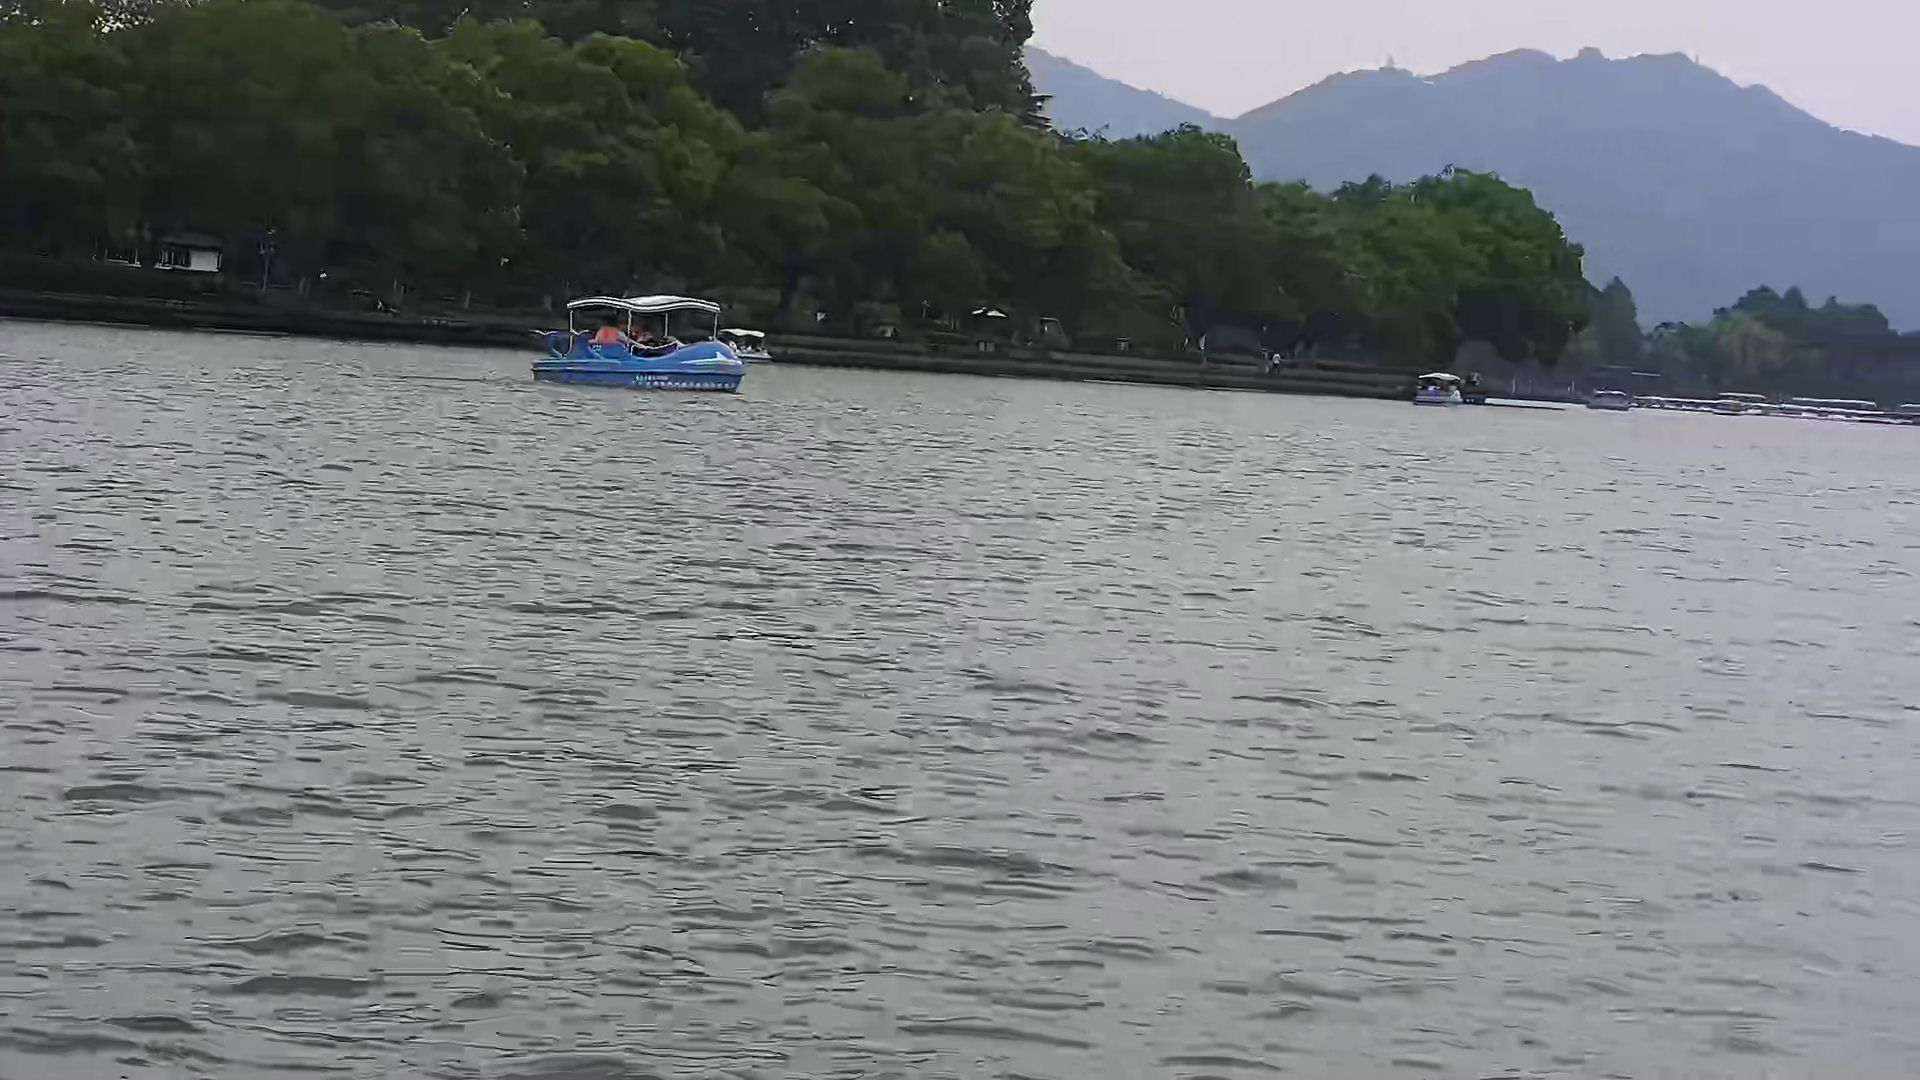boat: (529, 280, 749, 388), (708, 320, 771, 365), (1408, 371, 1472, 409)
